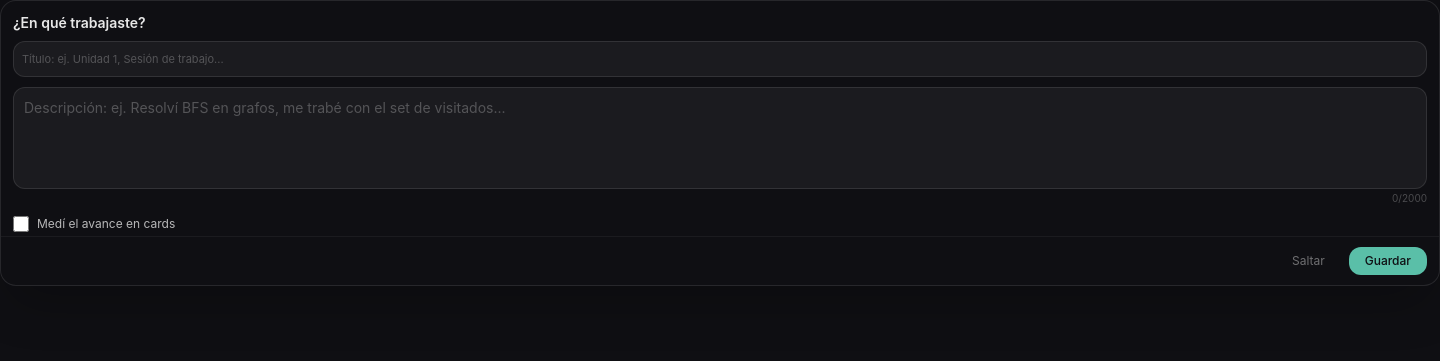
Test: JournalPrompt — el rótulo es el que eligió el usuario › el stepper usa singular y plural según la cantidad
Click the checkbox labelled "Medí el avance en cards" at (21,224), box [13,216,29,232]
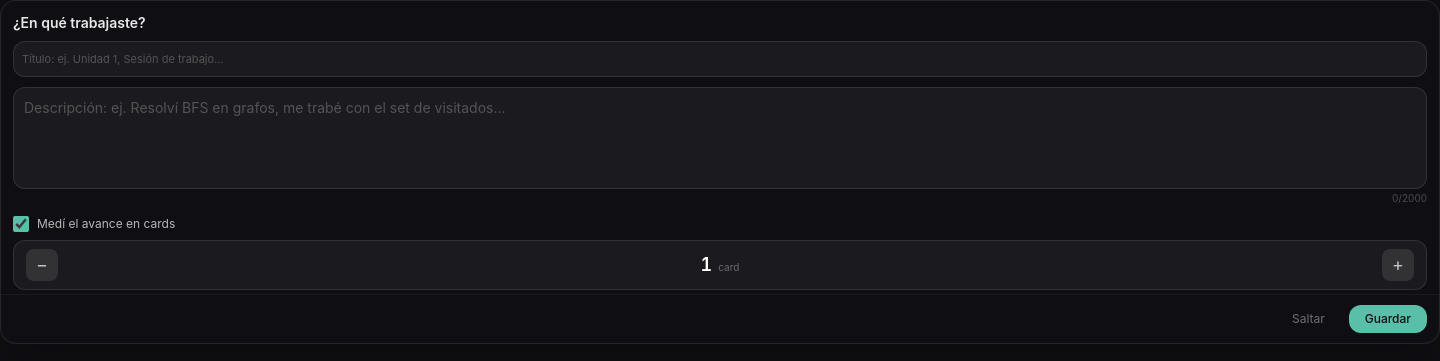
Check: the text "card" is shown, box [718,261,740,273]
Click the button named "Sumar medio card" at (1398,265), box [1382,249,1414,281]
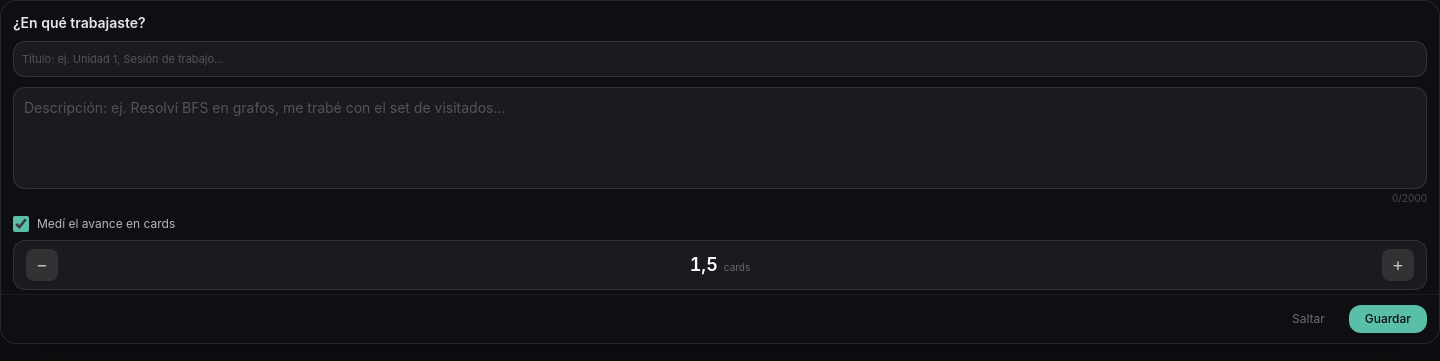
Check: the text "cards" is shown, box [724,261,750,273]
